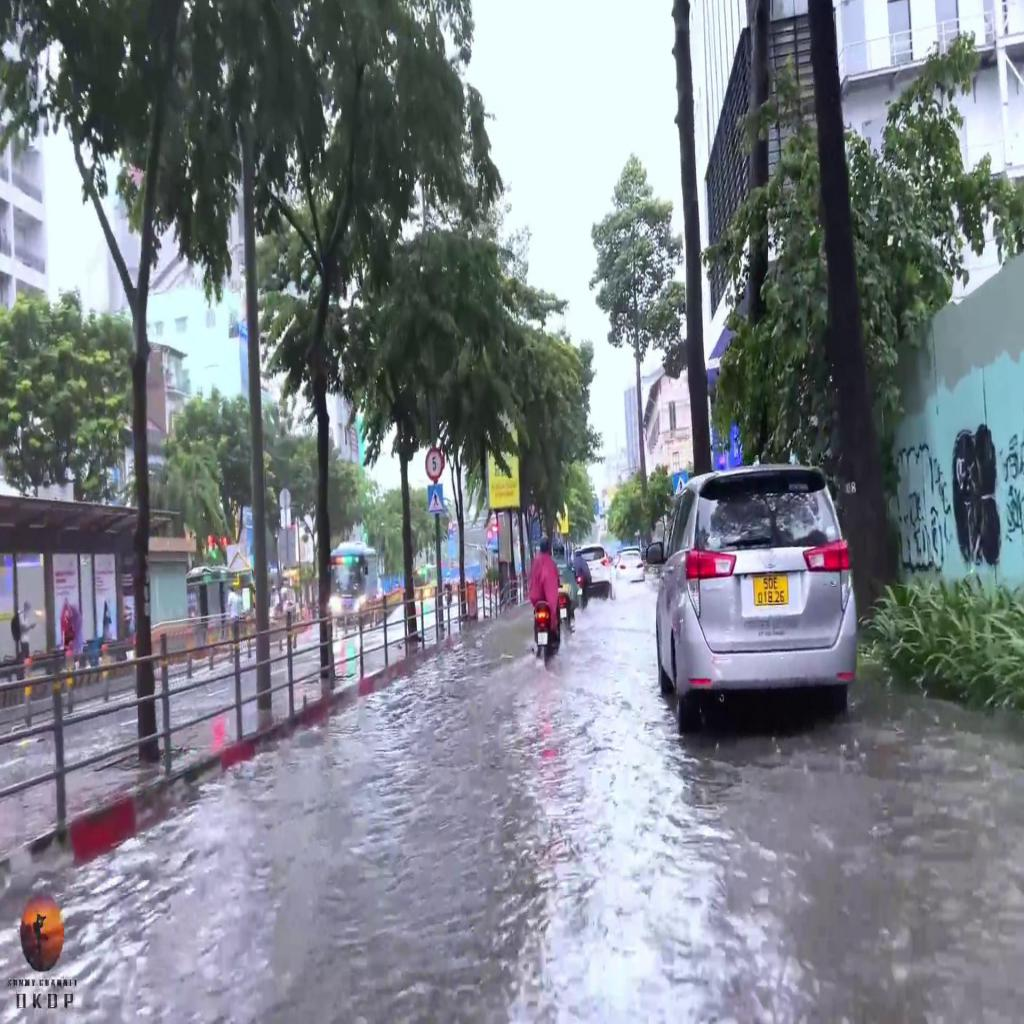duong_nguoi_di_bo_sang_ngang: (427, 485, 443, 512), (671, 471, 687, 497)
khac: (426, 448, 442, 480)
